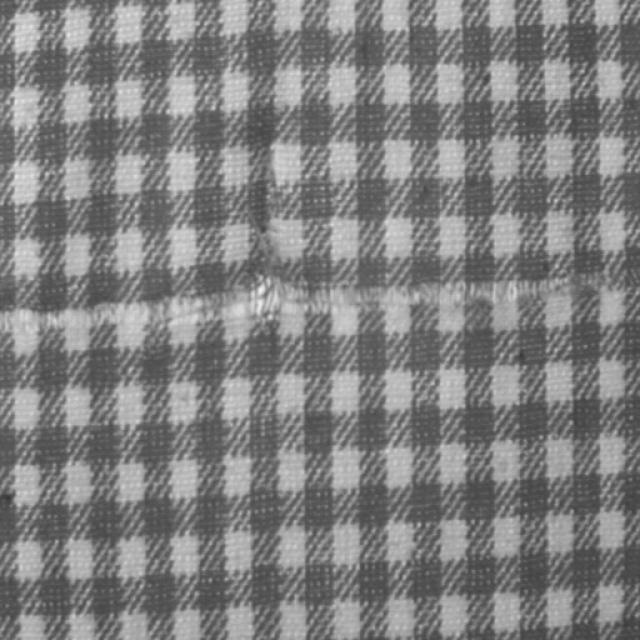Thread-Defect: (10, 267, 581, 330)
